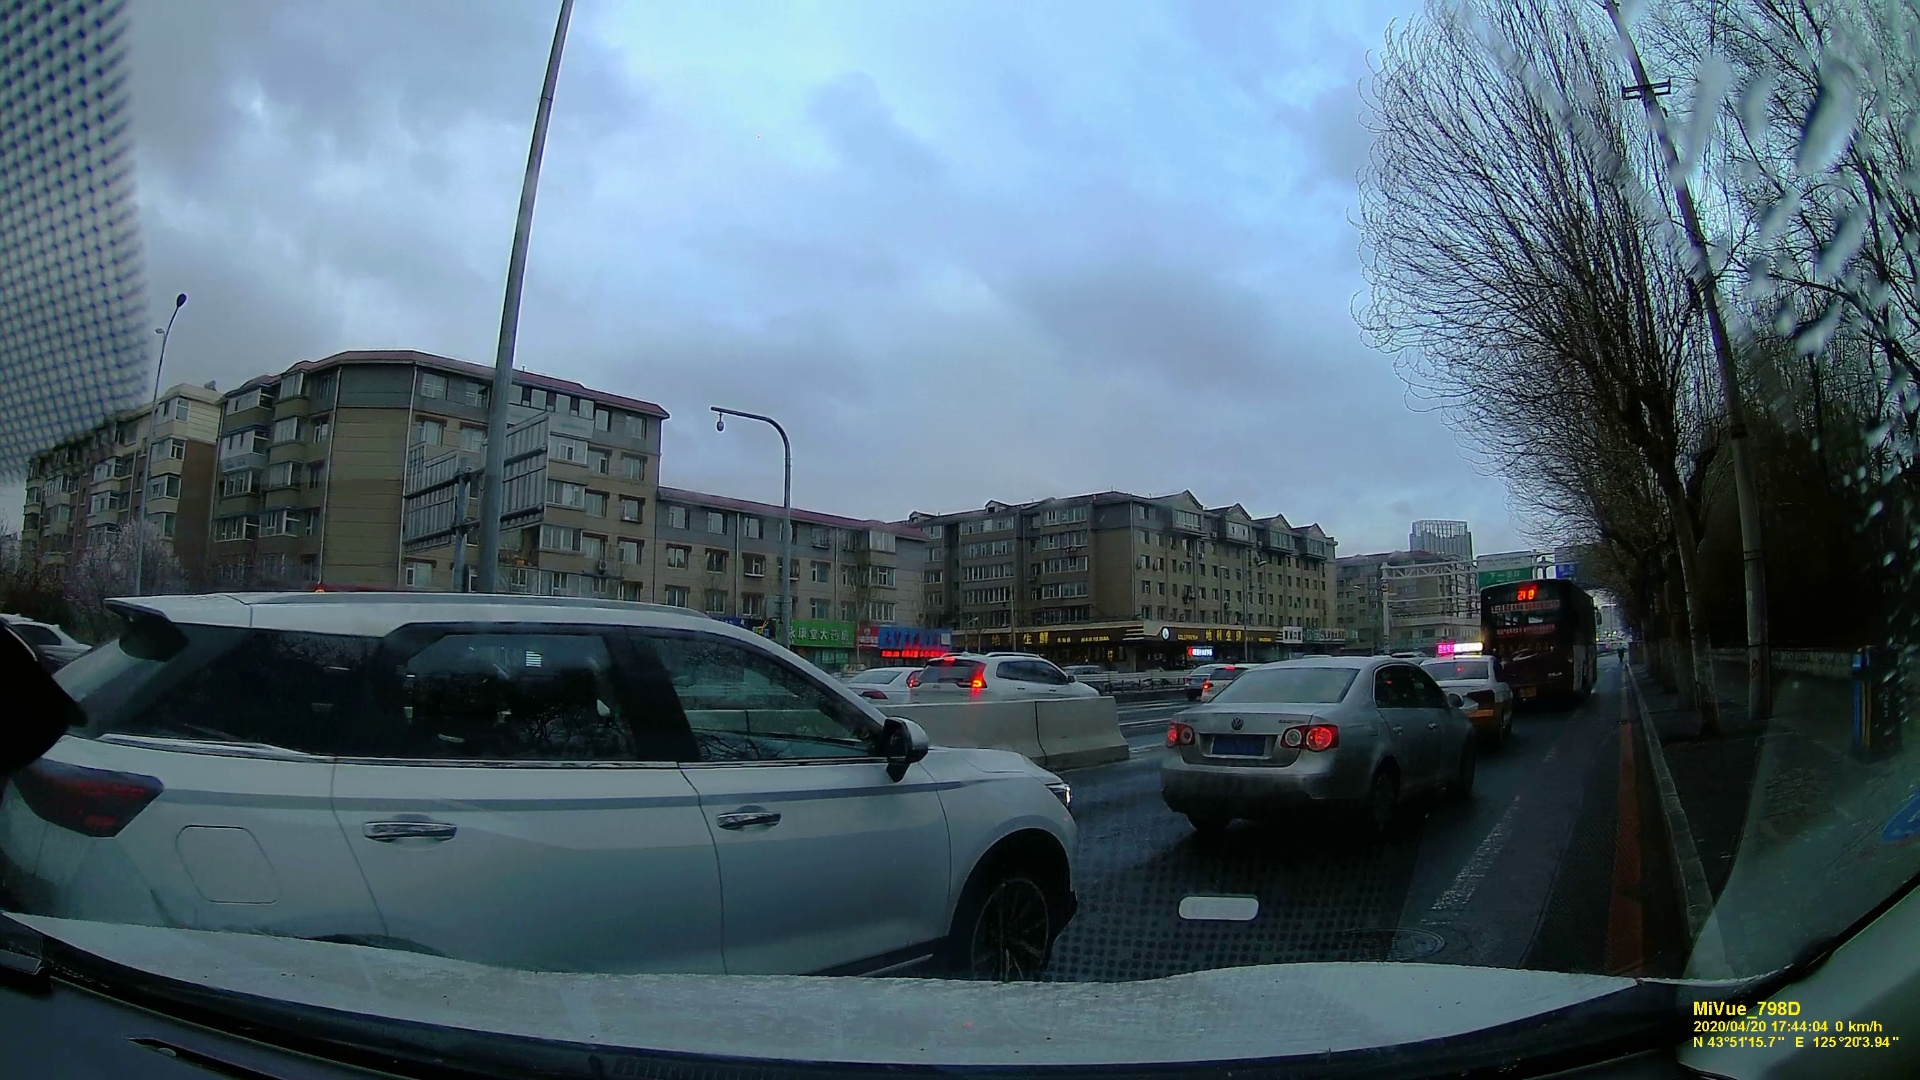bus: (1485, 579, 1597, 695)
vehicle: (26, 582, 1064, 1009), (1158, 651, 1491, 825), (915, 654, 1106, 704)
